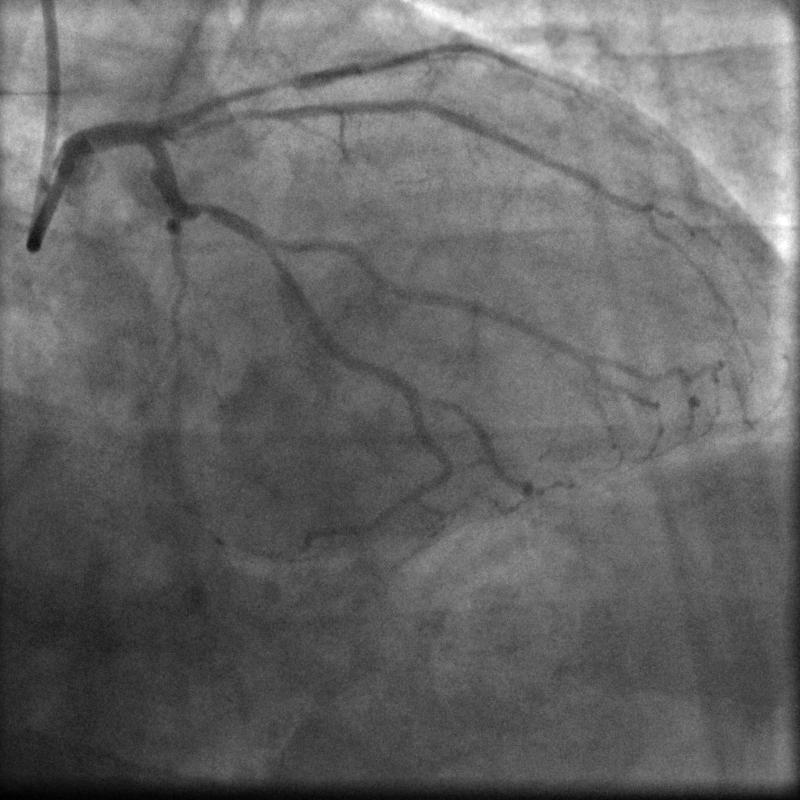Stenosis: (192, 195, 214, 226)
